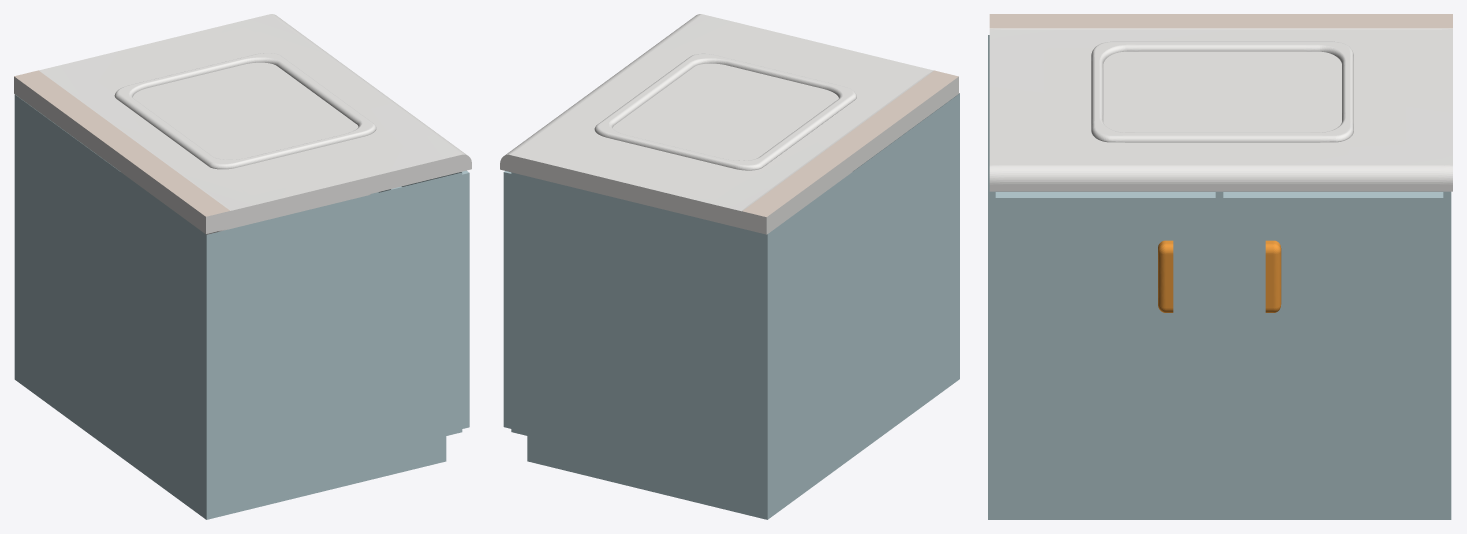
The model's file is countersink-v2.fbx.
3 renders of one model, left to right at view 1: azimuth 30°, elevation 25°; view 2: azimuth 150°, elevation 25°; view 3: azimuth 270°, elevation 25°, orthographic. The views are drawn at different scales.
Visible parts, largest first — view 1: counter-sink; view 2: counter-sink; view 3: counter-sink.
Part boxes in pixels (x1,y1,x2,y2): counter-sink: (14, 14, 471, 519); counter-sink: (500, 14, 959, 519); counter-sink: (988, 14, 1452, 519).
Bounding box in the file's own units: 500 × 529 × 602.
